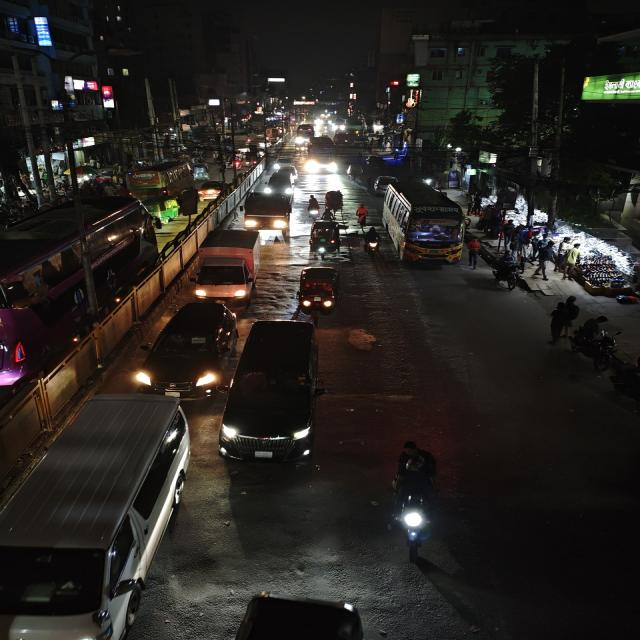bicycle: (490, 256, 524, 292)
bus: (0, 193, 157, 398), (380, 180, 469, 266), (124, 159, 194, 201), (306, 136, 339, 174)
car: (0, 397, 191, 640), (222, 318, 328, 468), (140, 298, 238, 398), (264, 169, 299, 197), (197, 179, 224, 200)
cng: (223, 587, 376, 640), (296, 264, 344, 317), (309, 220, 342, 257), (148, 193, 184, 220), (191, 160, 212, 180)
motorcycle: (383, 437, 448, 561), (569, 318, 621, 370), (363, 224, 381, 258), (304, 193, 322, 220), (353, 202, 370, 227)
pedestrian: (544, 297, 572, 345), (574, 314, 607, 348), (533, 242, 556, 280)
pickup_van: (236, 189, 294, 234)
truck: (190, 226, 264, 300)
